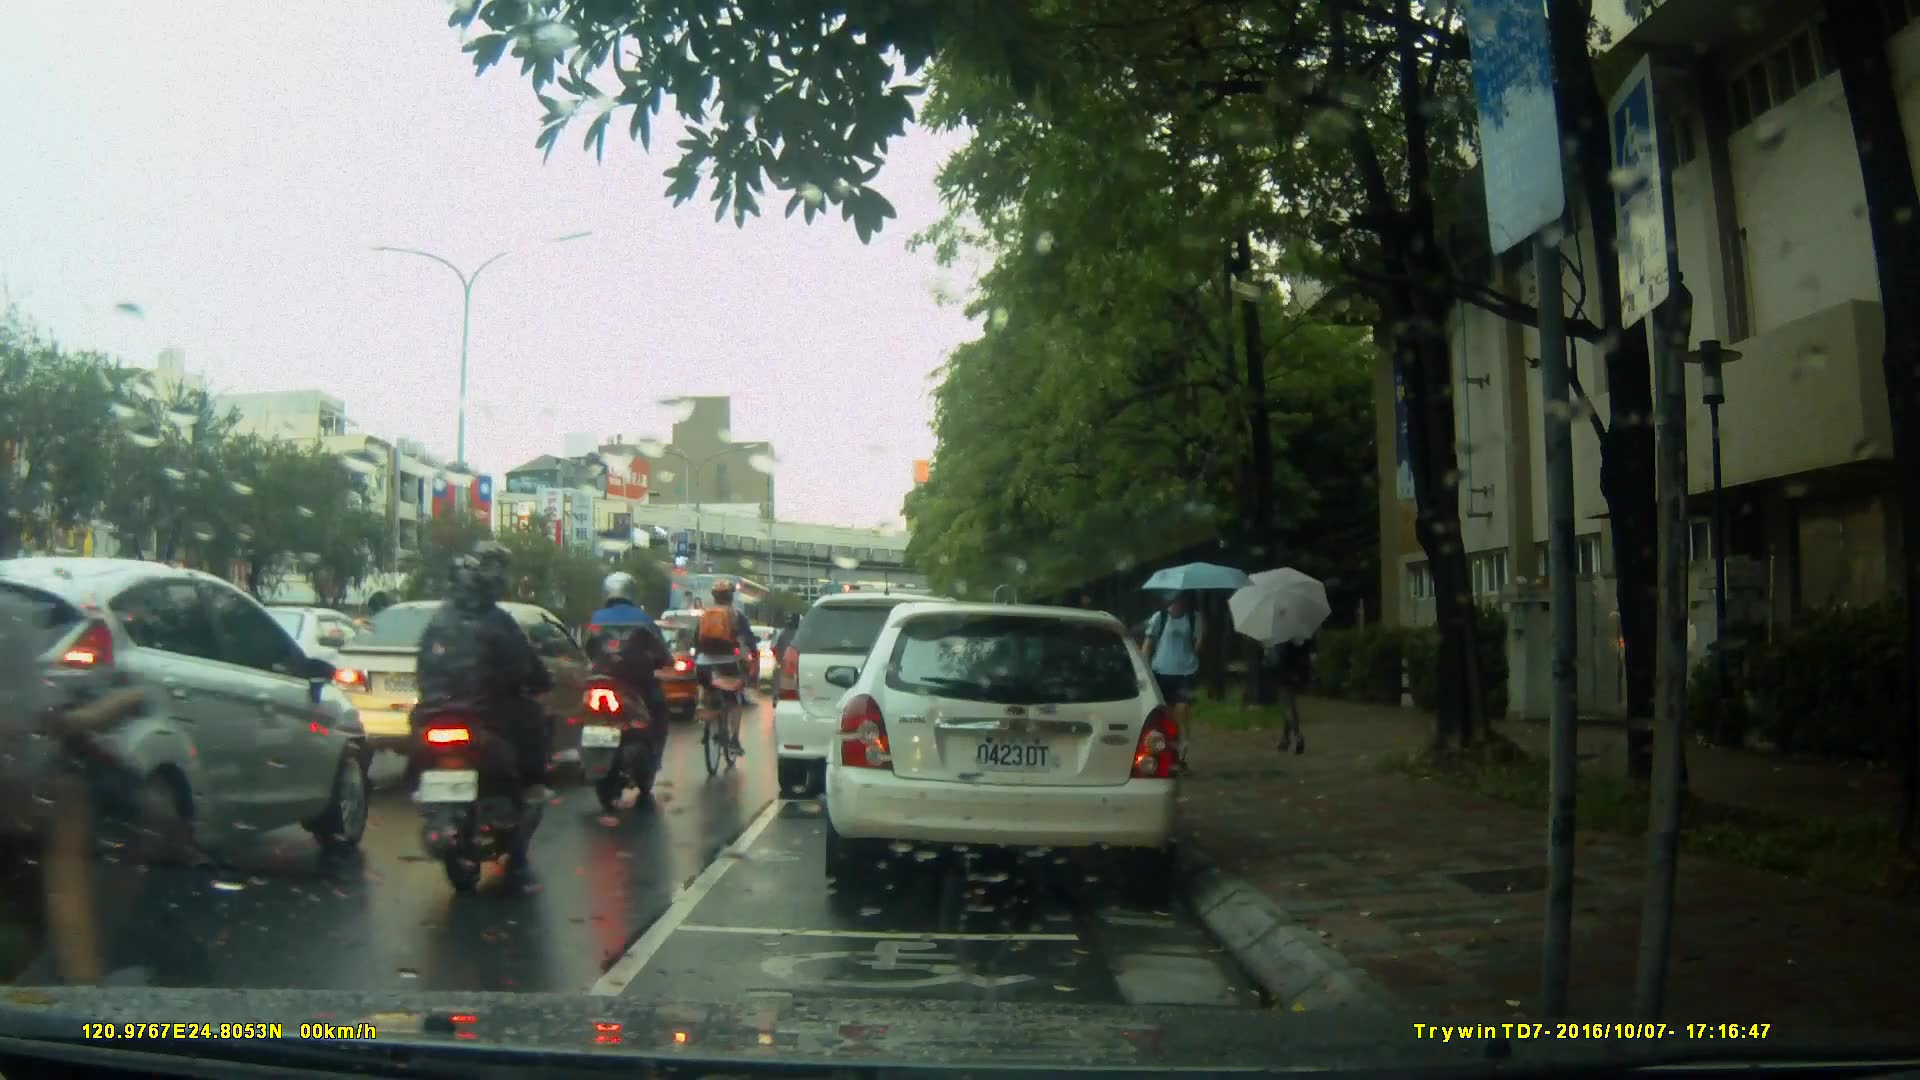pedestrian: (1149, 565, 1213, 792), (1268, 585, 1315, 755)
rider: (1, 558, 201, 1066), (409, 543, 552, 906), (582, 574, 689, 813), (699, 580, 769, 783)
vehicle: (1, 553, 378, 917), (835, 594, 1194, 898), (302, 597, 615, 786), (776, 590, 1026, 784), (574, 620, 707, 721), (667, 571, 786, 673)
